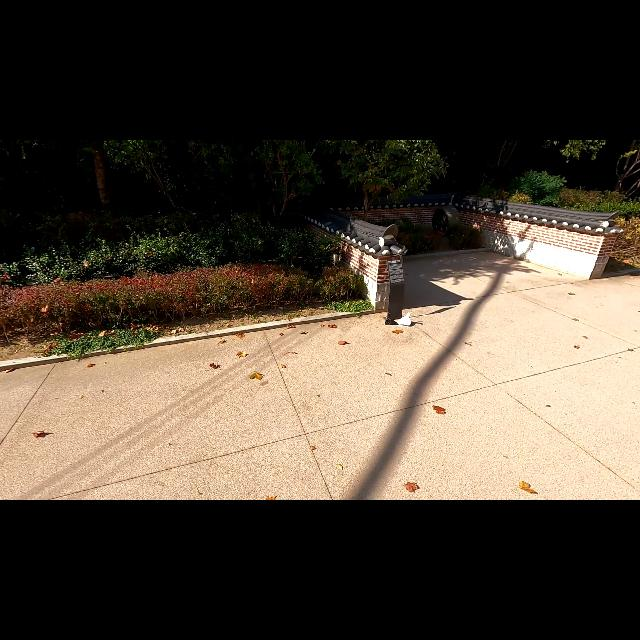trash: (396, 313, 412, 327), (382, 314, 396, 326)
